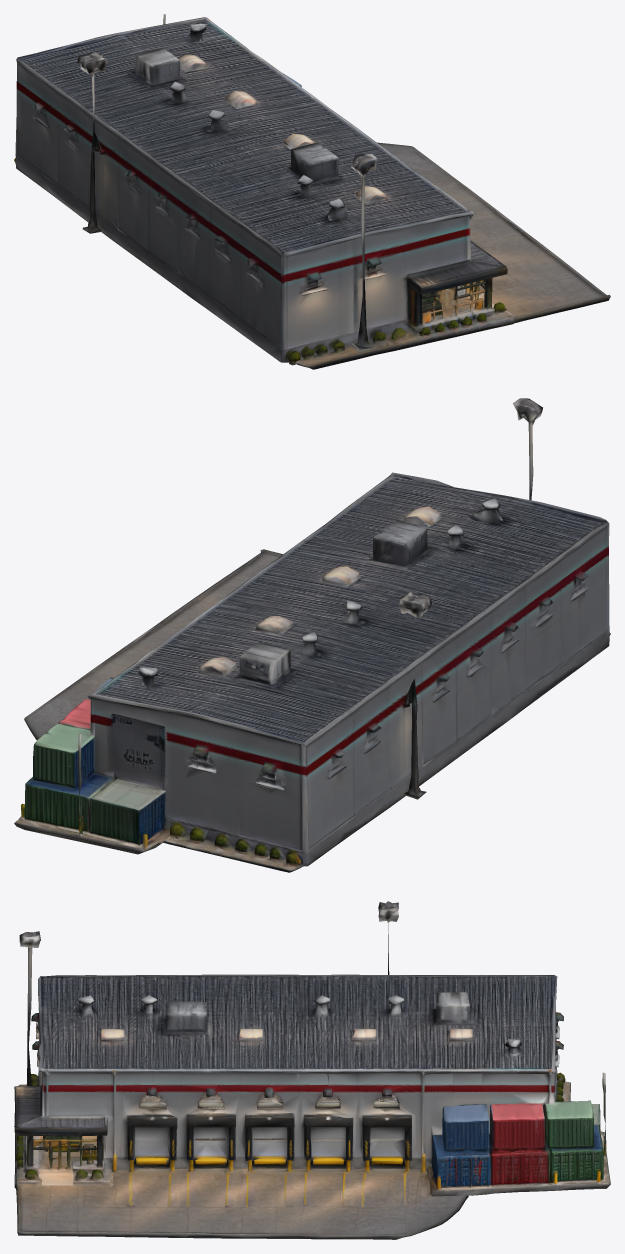
Rendered from warehouse_logistics.glb.
3 views of the same model, one above another, from view 1: azimuth 30°, elevation 25°; view 2: azimuth 150°, elevation 25°; view 3: azimuth 270°, elevation 25° (orthographic). The views are drawn at different scales.
Visible parts, largest first — view 1: tripo_node_a777d551-e7a3-41b0-b318-e4cd41951f40; view 2: tripo_node_a777d551-e7a3-41b0-b318-e4cd41951f40; view 3: tripo_node_a777d551-e7a3-41b0-b318-e4cd41951f40.
Boxes of the visible parts, bbox=[...] form: tripo_node_a777d551-e7a3-41b0-b318-e4cd41951f40: bbox=[14, 14, 610, 369]; tripo_node_a777d551-e7a3-41b0-b318-e4cd41951f40: bbox=[14, 398, 610, 872]; tripo_node_a777d551-e7a3-41b0-b318-e4cd41951f40: bbox=[14, 901, 610, 1239].
Size of the model in its own units: 0.643 by 0.3527 by 1.
Materials: 1 (1 with a texture image).
